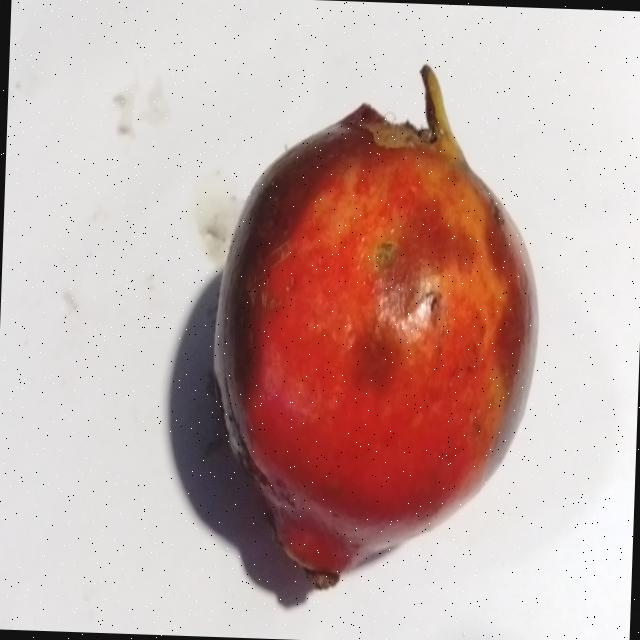Rotten: (198, 60, 553, 600)
